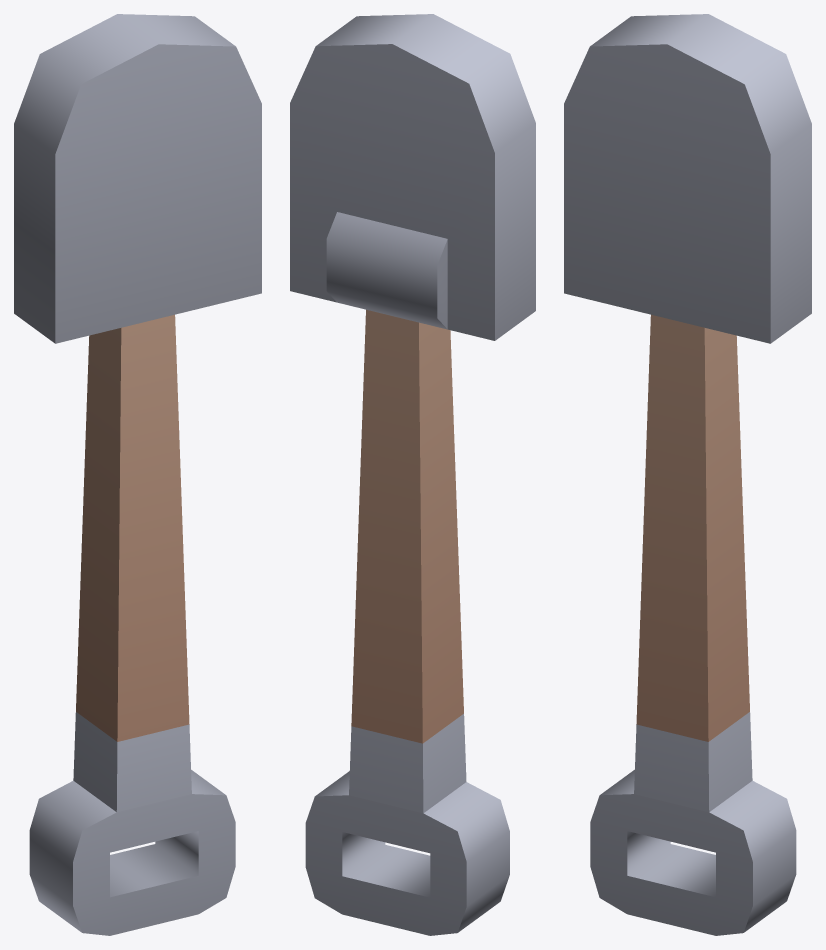
Rendered from tool-shovel.glb.
The picture shows the model from 3 angles, left to right: view 1: azimuth 30°, elevation 25°; view 2: azimuth 150°, elevation 25°; view 3: azimuth 330°, elevation 25°; orthographic projection.
Visible parts, largest first — view 1: tool-shovel; view 2: tool-shovel; view 3: tool-shovel.
Part boxes in pixels (x1,y1,x2,y2): tool-shovel: (14,14,261,935); tool-shovel: (290,14,535,935); tool-shovel: (564,14,811,935).
Size of the model in its own units: 0.0709 by 0.29 by 0.0309.
